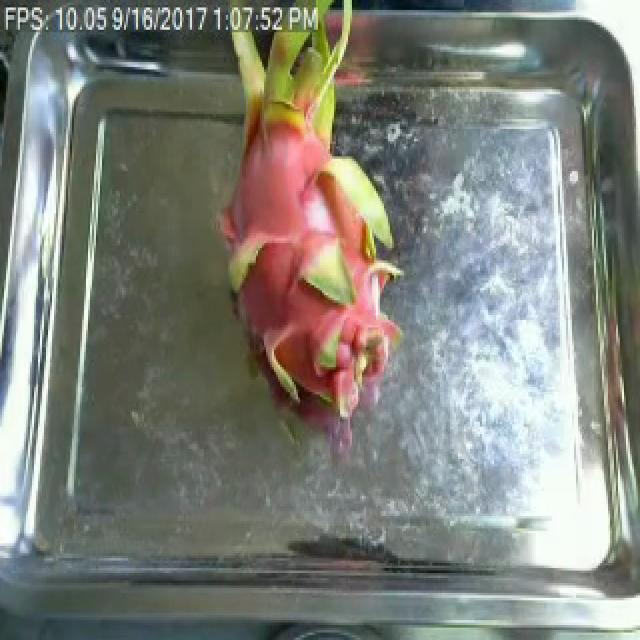fruit: (200, 5, 430, 434)
